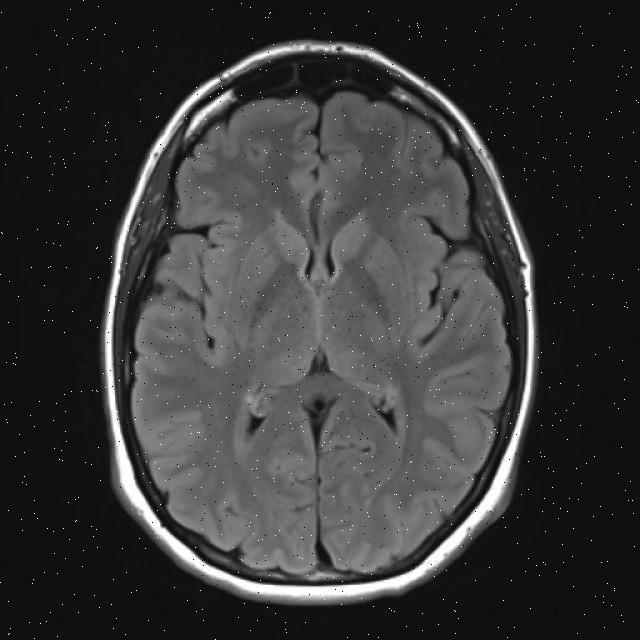No_Tumor: (105, 40, 535, 603)
